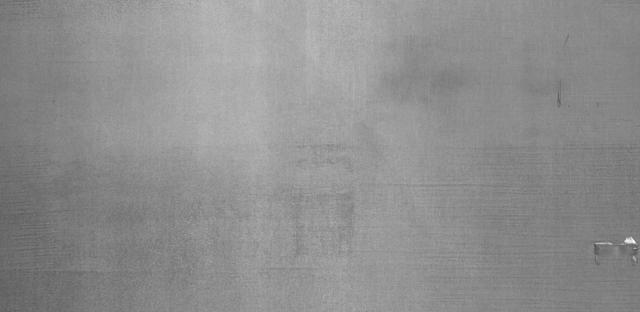rolled_pit: (564, 237, 640, 271)
